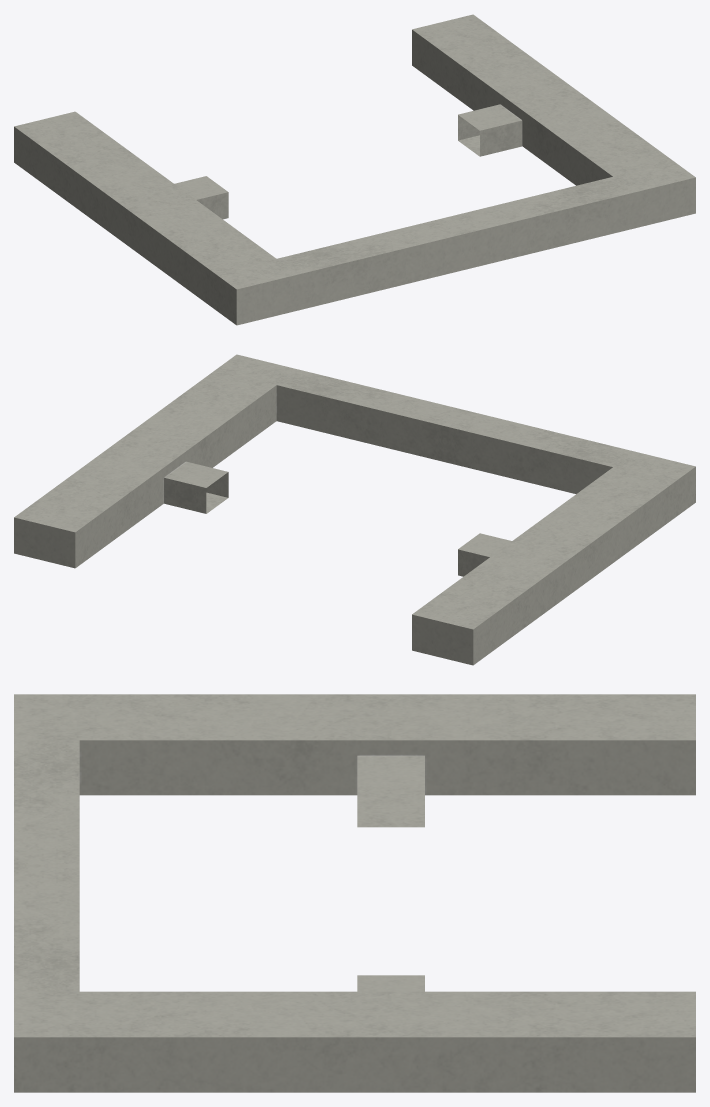
Rendered from Pasillos_Interiores.fbx.
3 renders of one model, top to bottom at view 1: azimuth 30°, elevation 25°; view 2: azimuth 150°, elevation 25°; view 3: azimuth 270°, elevation 25°, orthographic. The views are drawn at different scales.
Visible parts, largest first — view 1: Estrutura_inferior.002; view 2: Estrutura_inferior.002; view 3: Estrutura_inferior.002.
Boxes of the visible parts, x1=… form: Estrutura_inferior.002: x1=14, y1=14, x2=695, y2=325; Estrutura_inferior.002: x1=14, y1=354, x2=695, y2=665; Estrutura_inferior.002: x1=14, y1=694, x2=695, y2=1092.
Size of the model in its own units: 5052 by 379 by 4244.
Materials: 1 (1 with a texture image).
